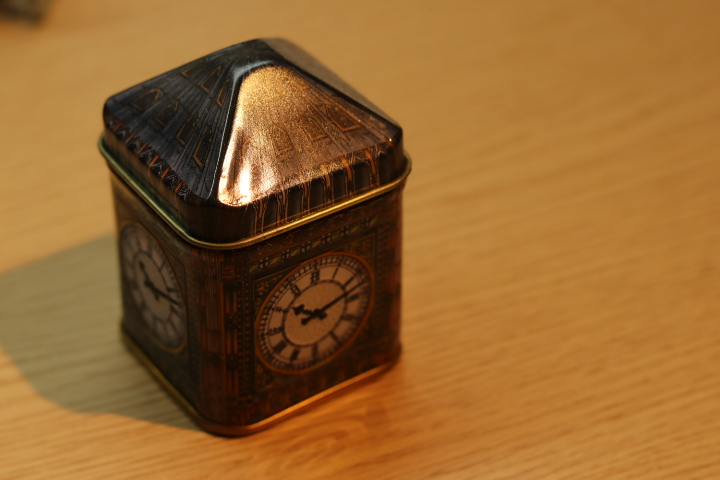Big Ben: (81, 27, 431, 449)
